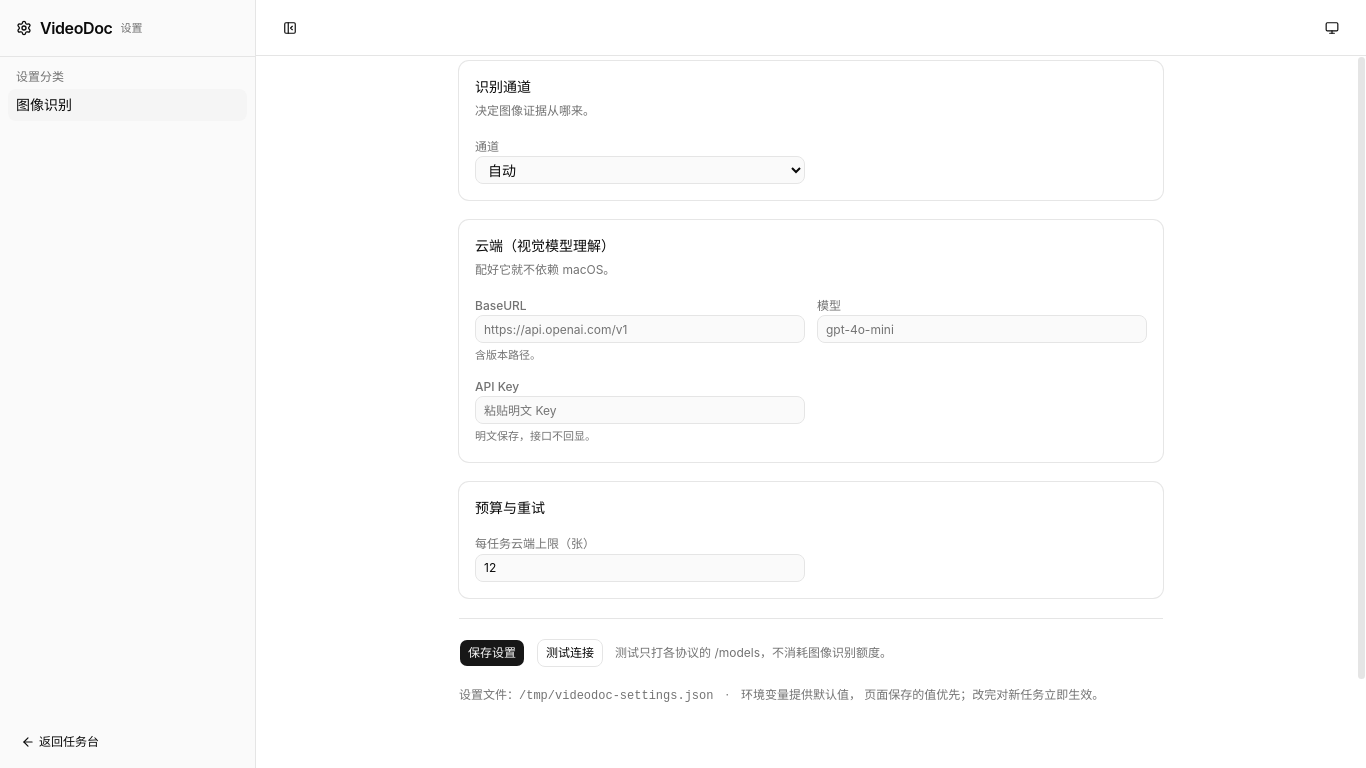
it: 设置页（左分类 / 右设置项） › 后端校验失败时显示原始错误原因
(page scrolled)
What coordinates should you click on to do the following:
click the button "保存设置"
I would click on:
 (492, 653)
Its box is left=459, top=639, right=525, bottom=667.
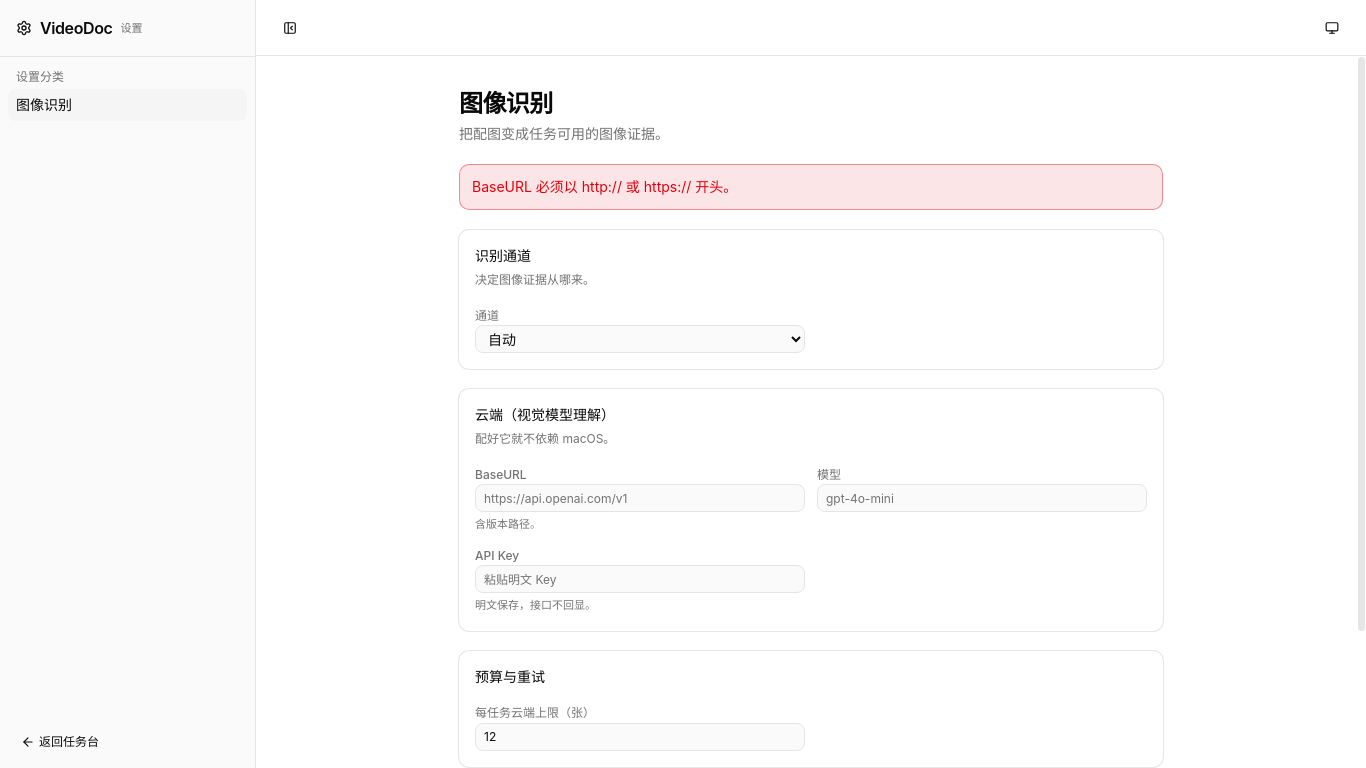
Expected: the text "BaseURL 必须以 http:// 或 https:// 开头。" is shown, left=459, top=164, right=1163, bottom=210
